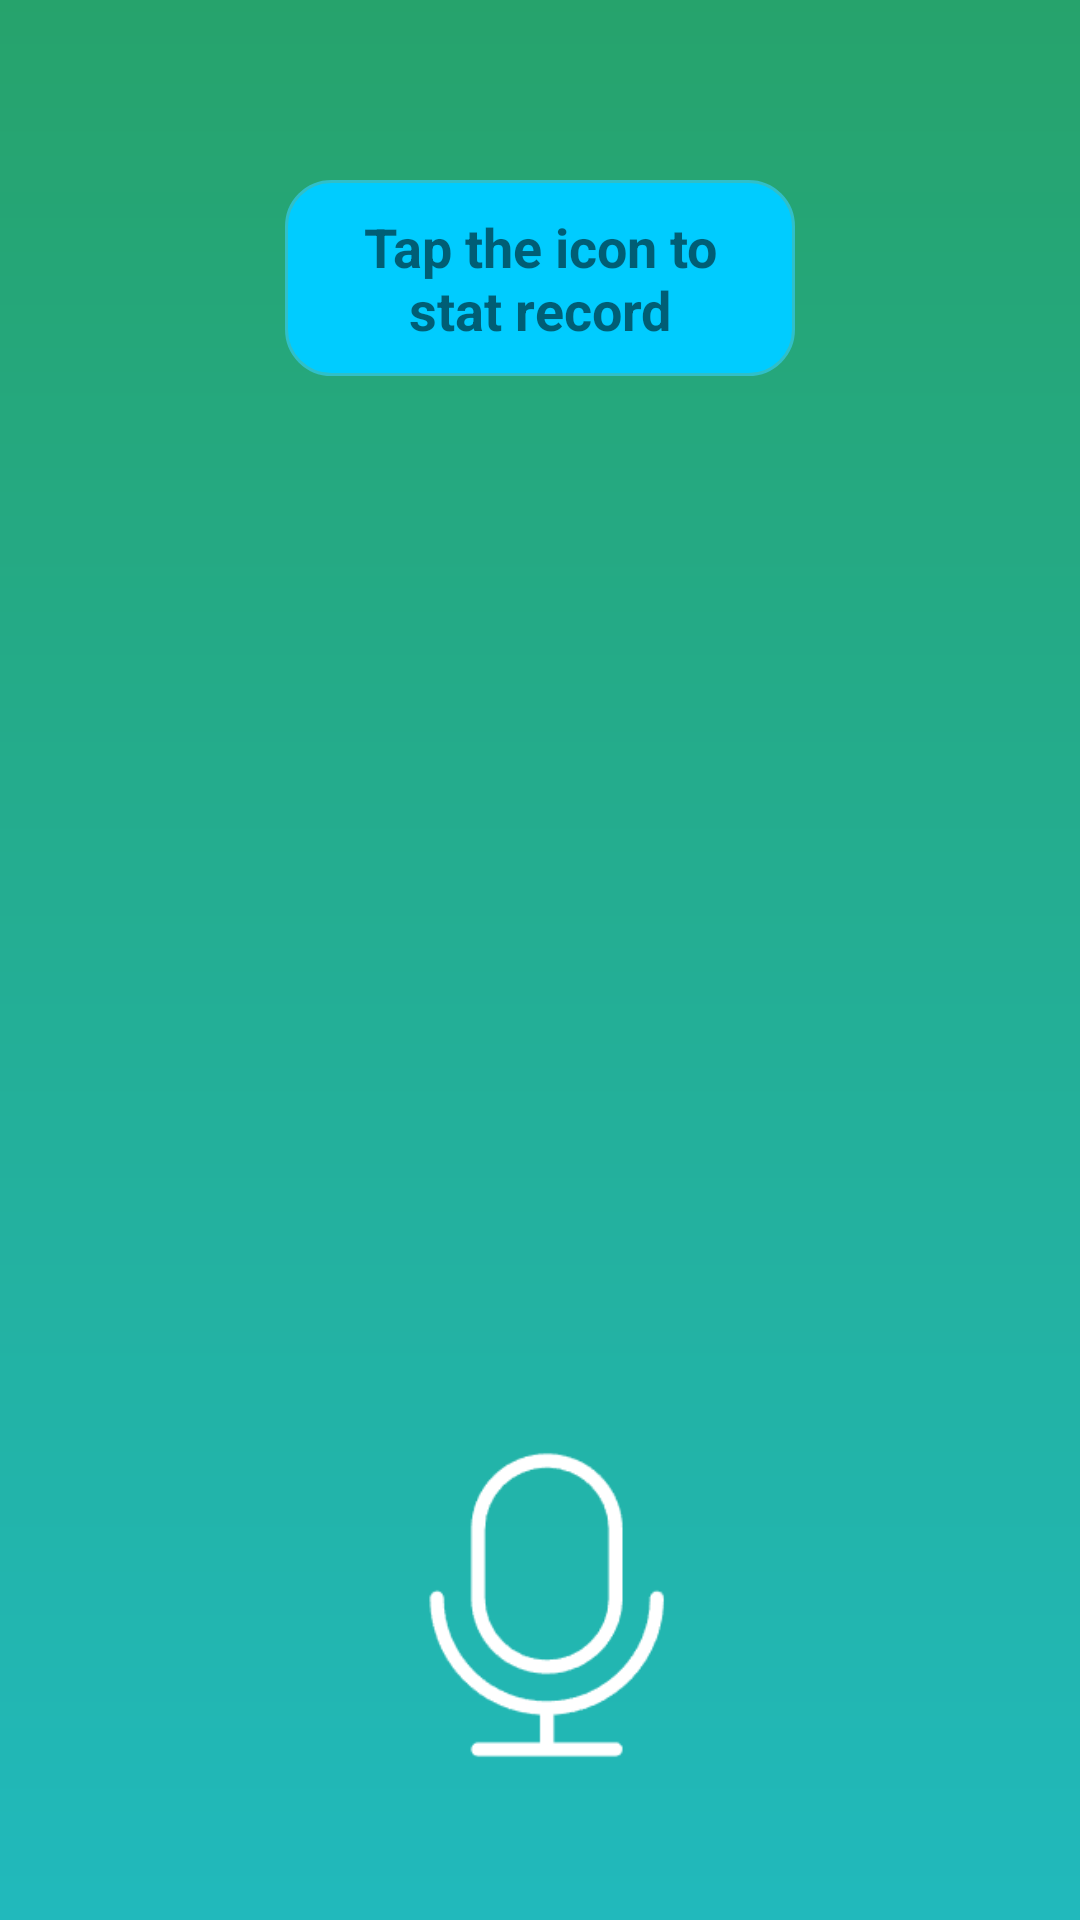

Screen size 1080*1920. Icon name, then its box in pixels as (x1, y1, x2, y2):
yuyin: (429, 1453, 664, 1757)
